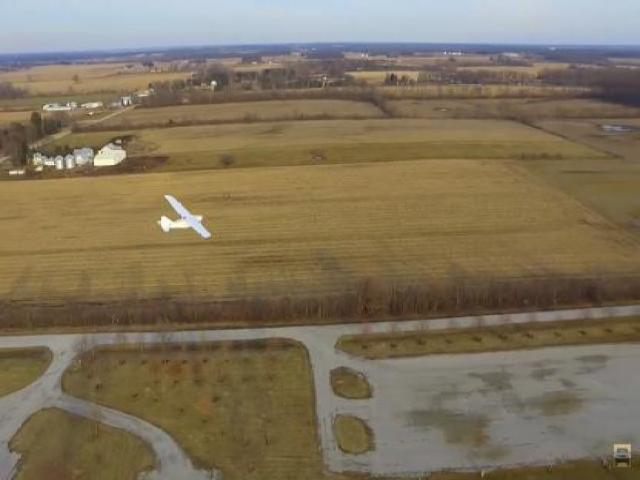uav: (146, 186, 222, 248)
